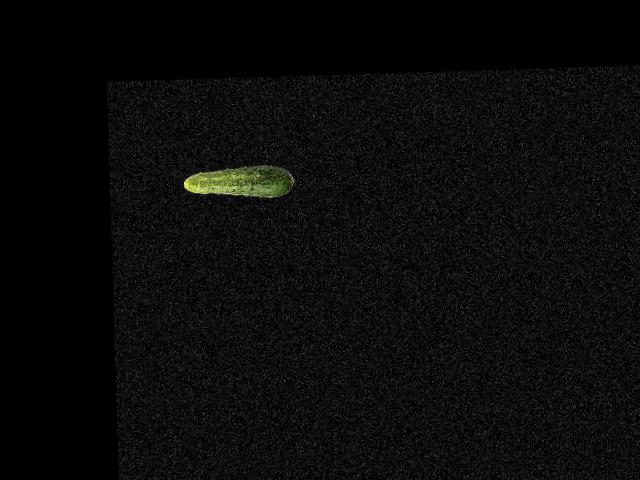cucumber: (183, 162, 295, 199)
